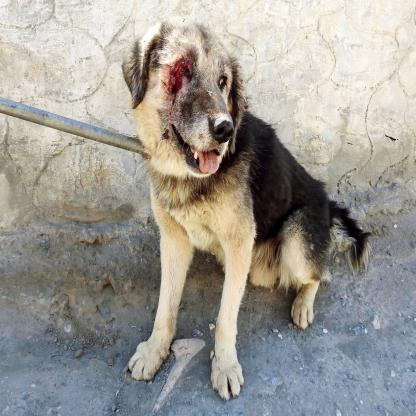dog: (114, 11, 356, 390)
injured: (162, 38, 199, 130)
